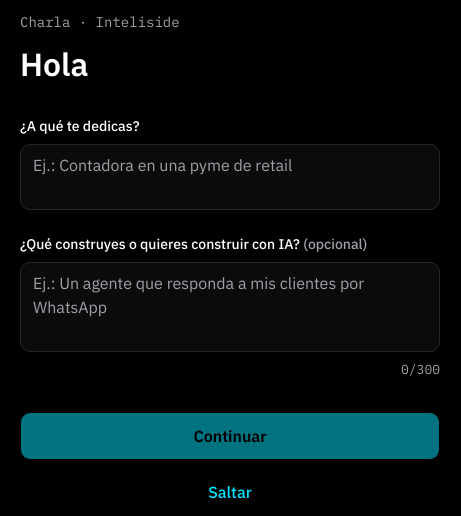
Test: PantallaPerfil (falta_perfil) › «Continuar» sigue deshabilitado hasta que el rol tenga 2 caracteres sin espacios
Expected: the button "Continuar" is disabled, [20, 412, 440, 460]
Type " a " into the text box labelled "¿A qué te dedicas?" at (230, 177), box [20, 144, 440, 210]
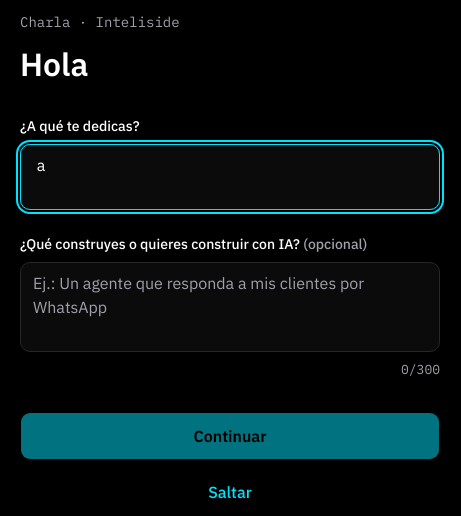
Expected: the button "Continuar" is disabled, [20, 412, 440, 460]
Type "b" into the text box labelled "¿A qué te dedicas?" at (230, 177), box [20, 144, 440, 210]
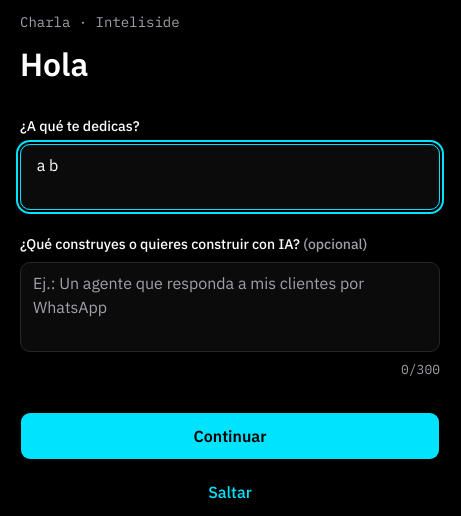
Expected: the button "Continuar" is enabled, [20, 412, 440, 460]
